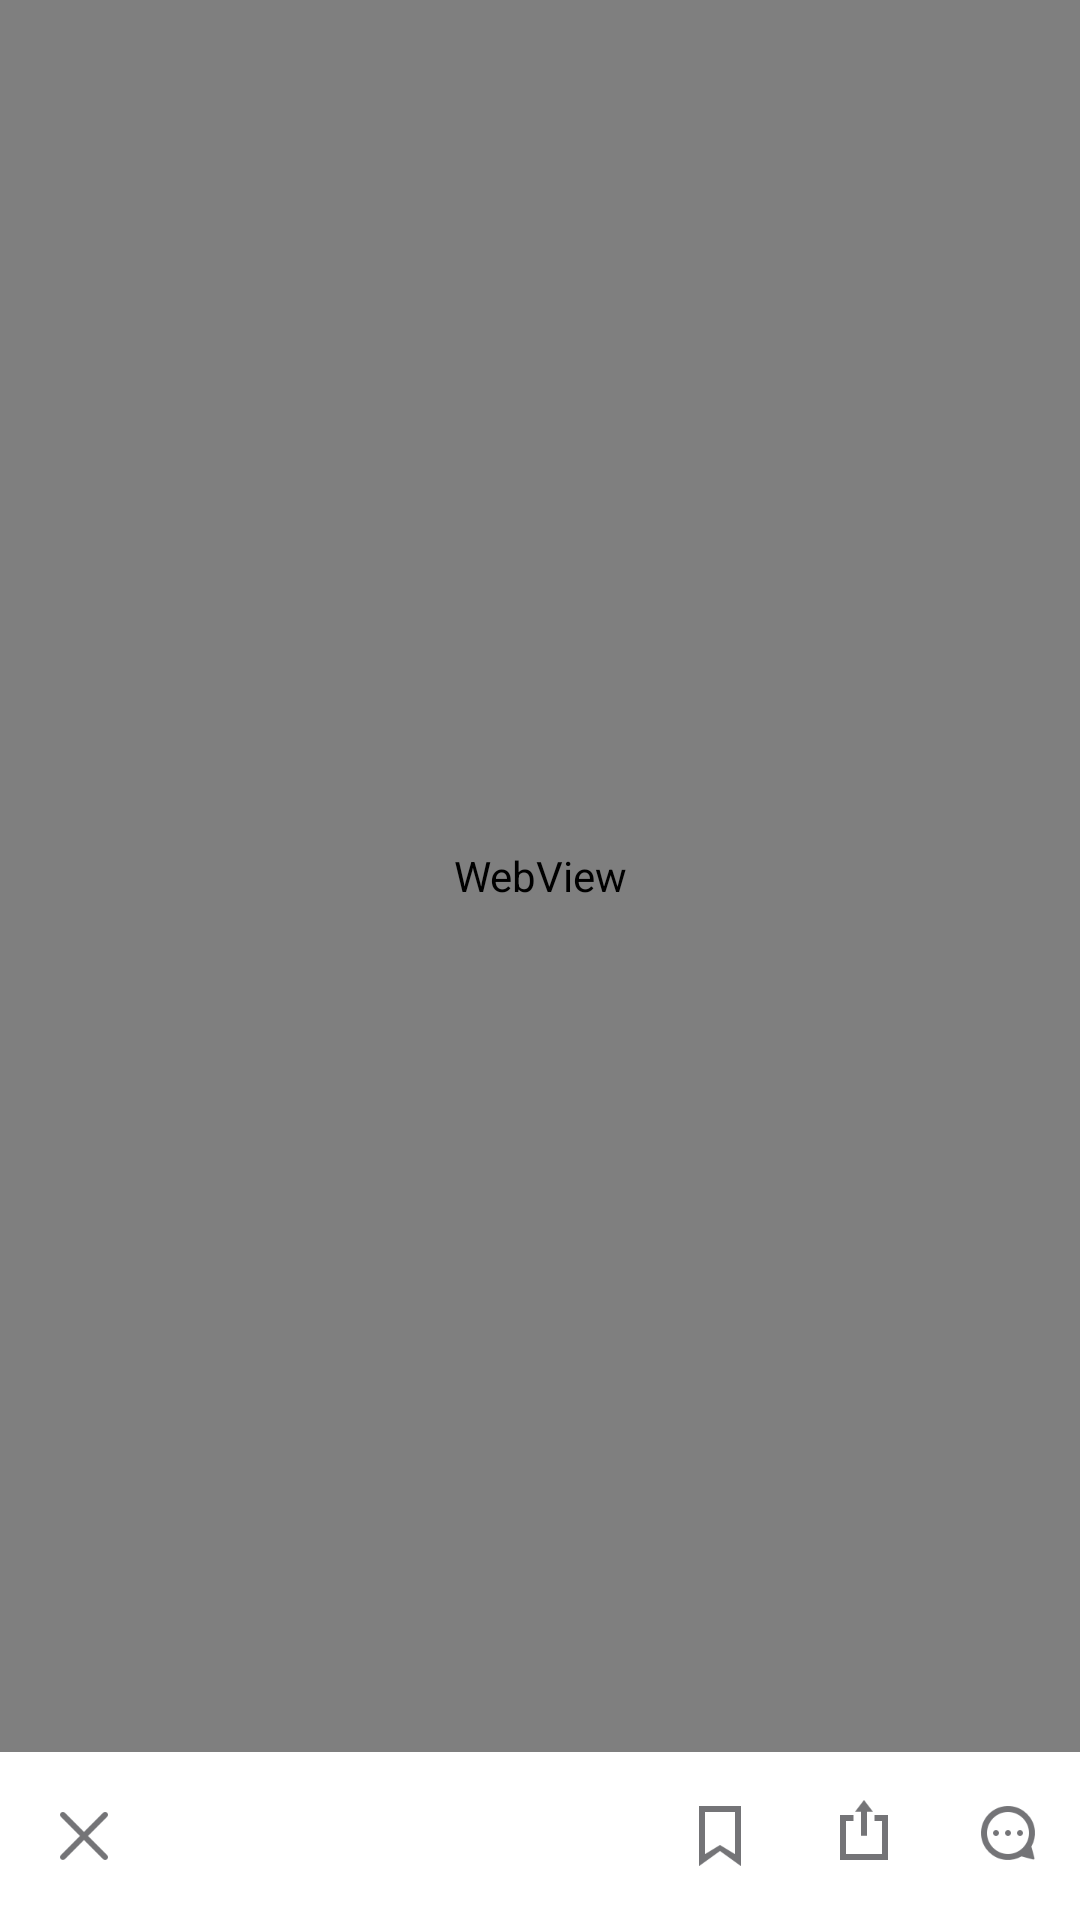

Named icons in this screenshot (1080w x 1920h) and their bounding boxes, (x1, y1, x2, y2):
bookmark: (699, 1806, 741, 1866)
chatt: (981, 1806, 1035, 1860)
close: (60, 1812, 108, 1860)
share: (840, 1800, 888, 1860)
